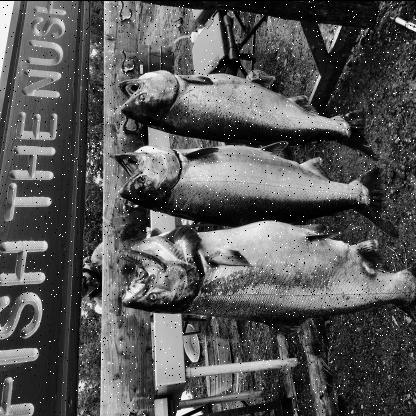fish: (117, 216, 415, 327), (113, 140, 400, 242), (118, 70, 374, 158)
